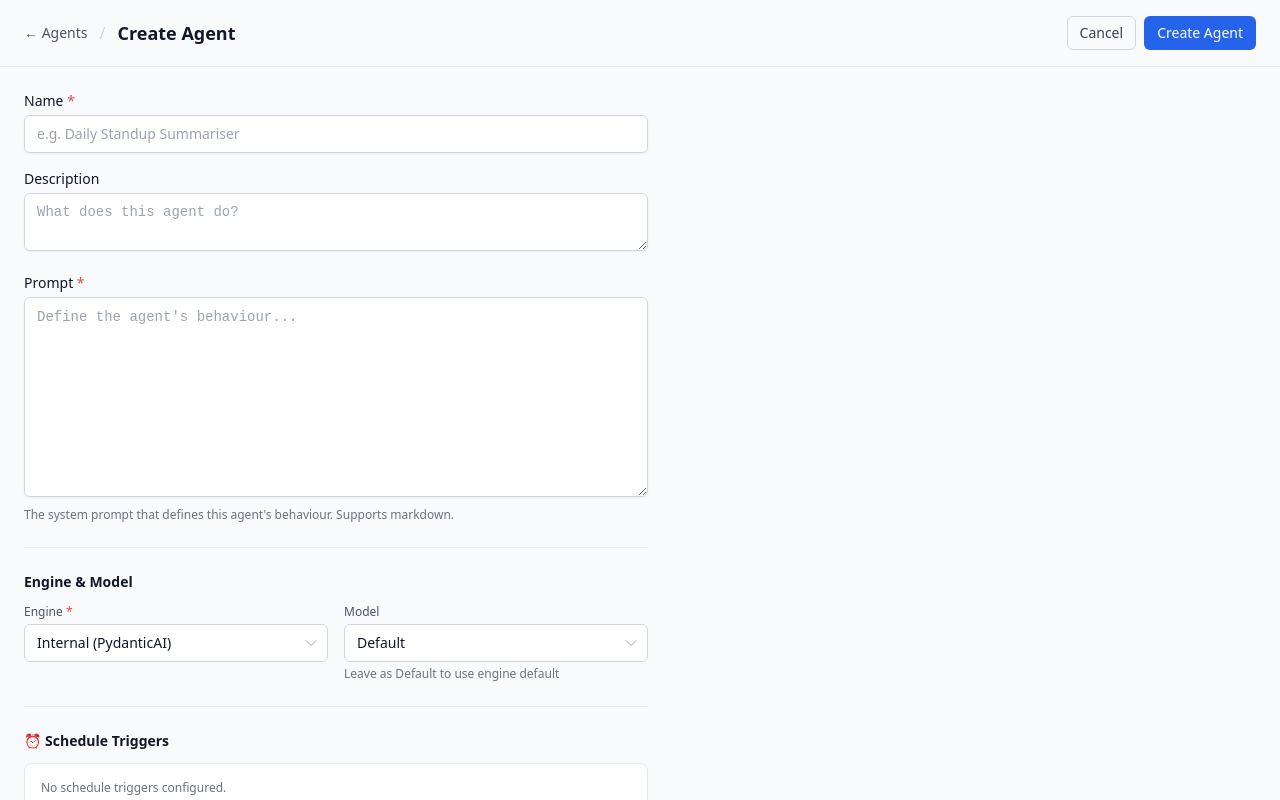
it: BackgroundAgentEditor — create mode › shows validation error for invalid JSON in initial state
Check: the heading "Create Agent" is shown, box x1=118 y1=19 x2=236 y2=47
// Fill required fields
Type "My Agent" into the field with placeholder "e.g. Daily Standup Summariser".
click(336, 134); type("My Agent")  # box x1=24 y1=115 x2=648 y2=153
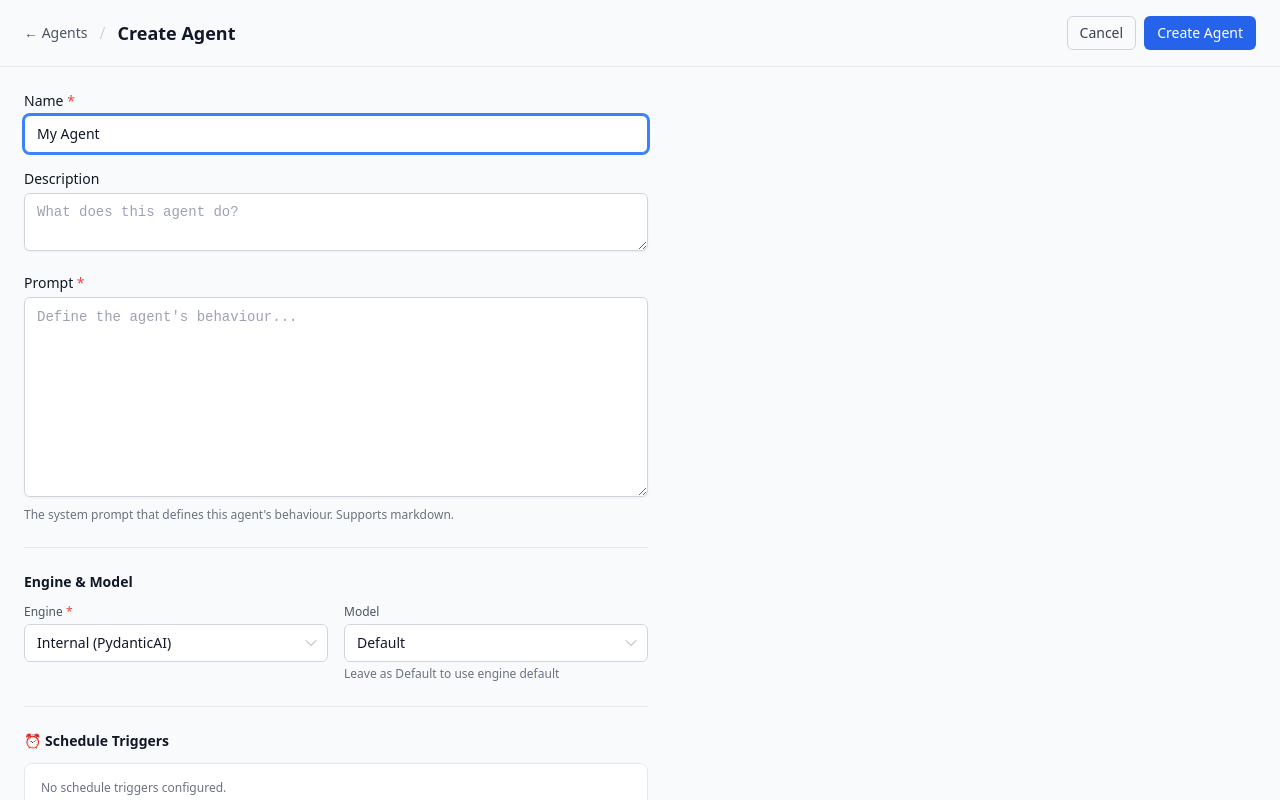
Type "Do something" into the text box with placeholder "Define the agent's behaviour...".
click(336, 397); type("Do something")  # box x1=24 y1=297 x2=648 y2=497
(page scrolled)
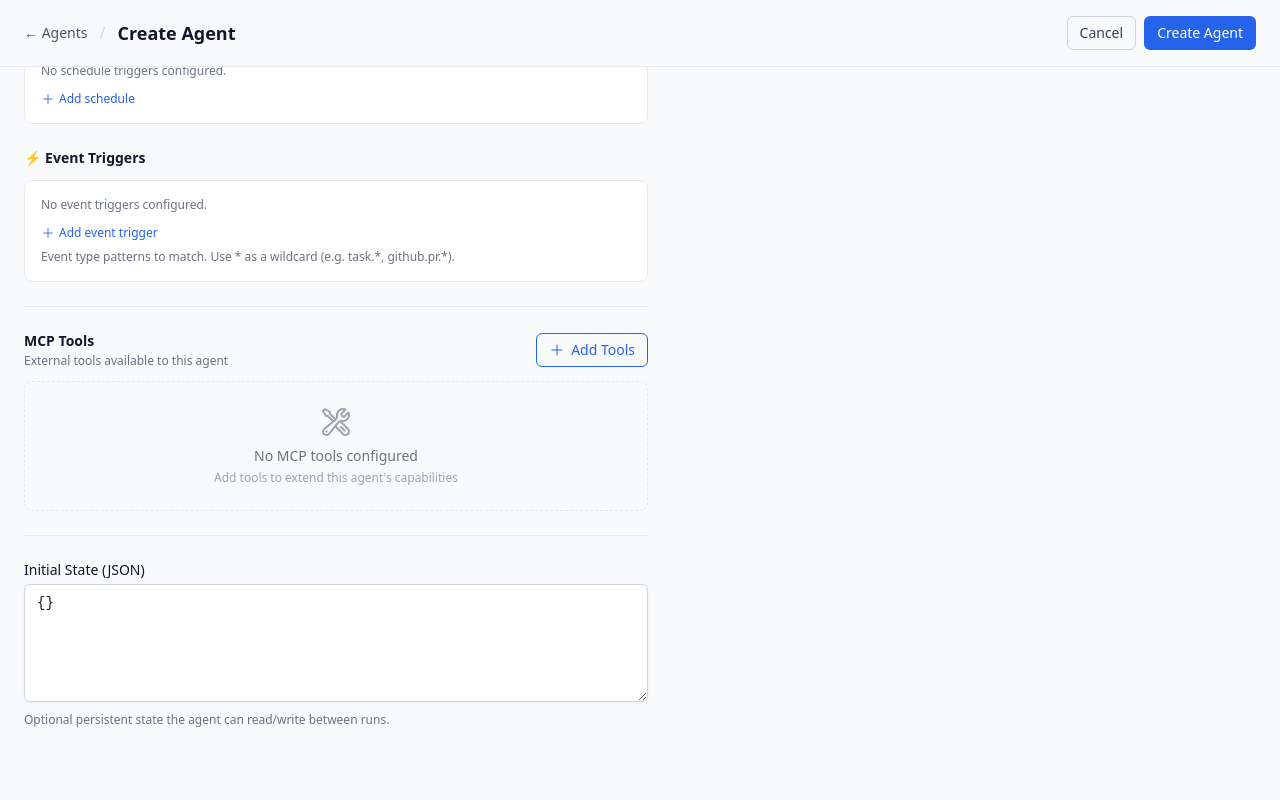
// Enter invalid JSON in state field
Type "not valid json" into the text box with placeholder "{}".
click(336, 643); type("not valid json")  # box x1=24 y1=584 x2=648 y2=702
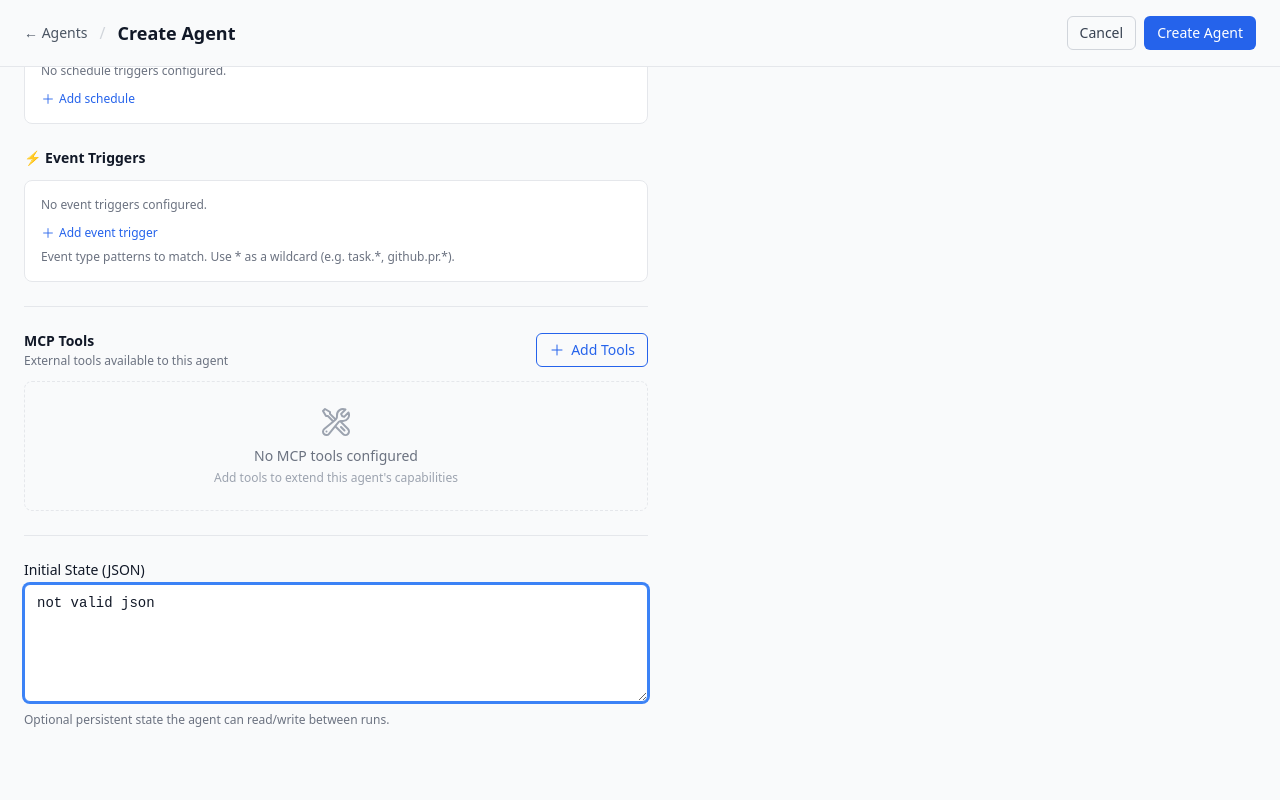
// Trigger blur to show JSON error
Leave the text box with placeholder "{}", box x1=24 y1=584 x2=648 y2=702
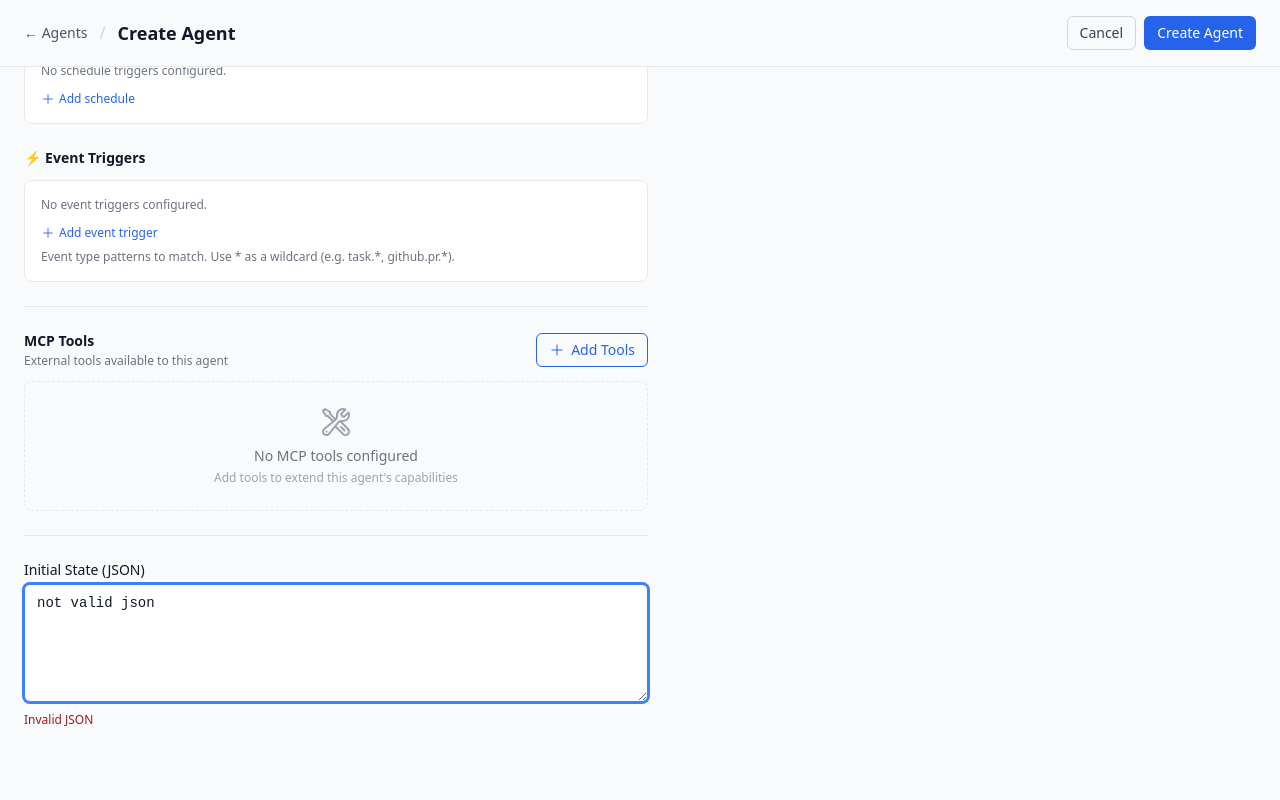
Check: the text "Invalid JSON" is shown, box x1=24 y1=711 x2=93 y2=728
